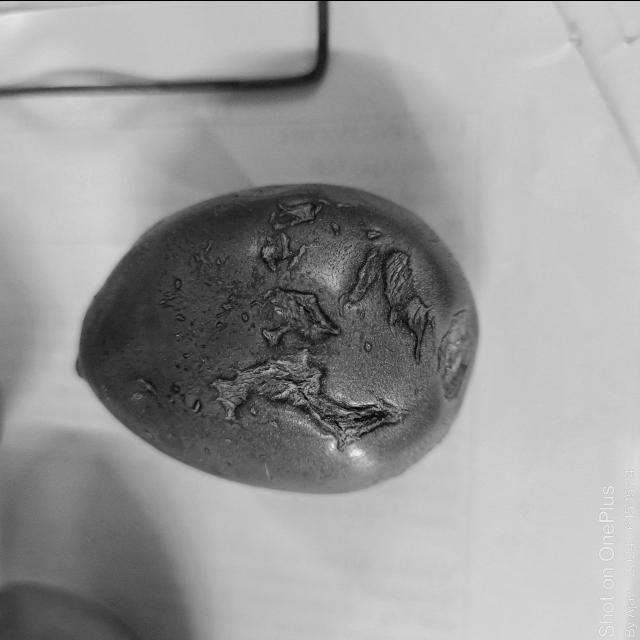tomato_cracking: (203, 272, 408, 450), (318, 233, 436, 373)
